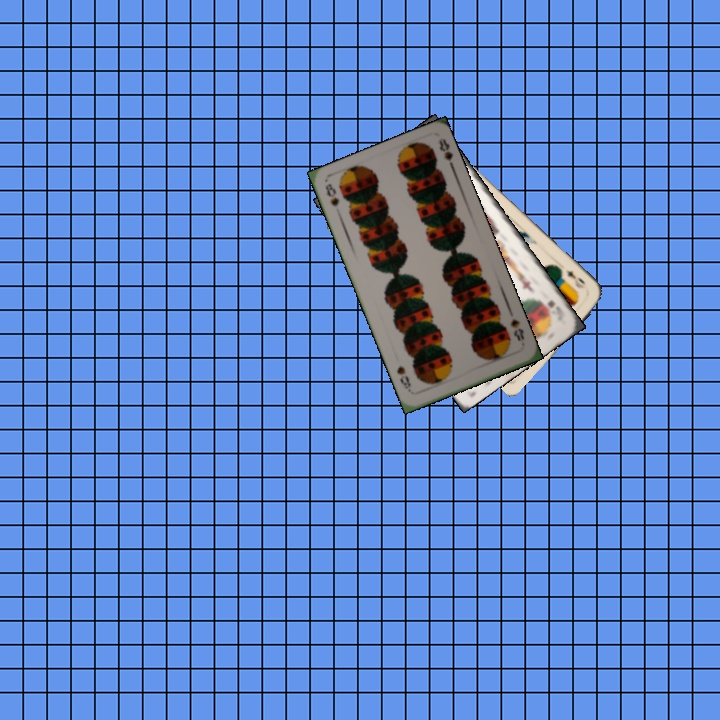EO: (561, 266, 588, 291)
S8: (321, 179, 342, 209), (506, 315, 527, 344)
SK: (543, 296, 565, 323)
